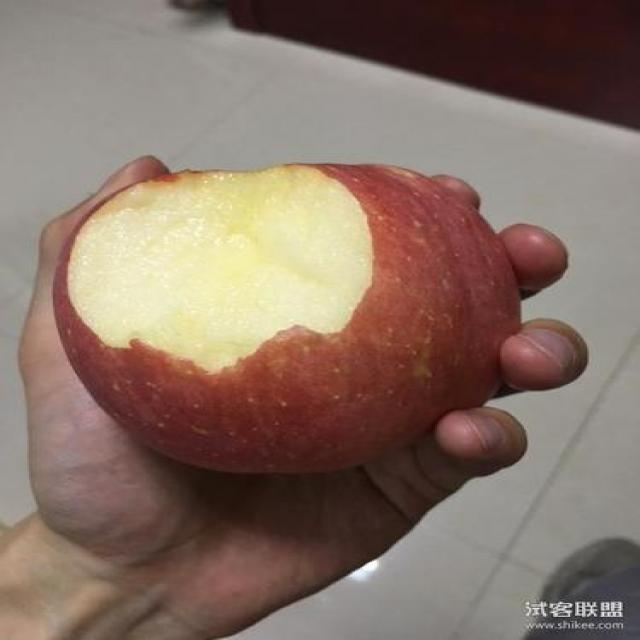Rotten: (59, 157, 520, 469)
